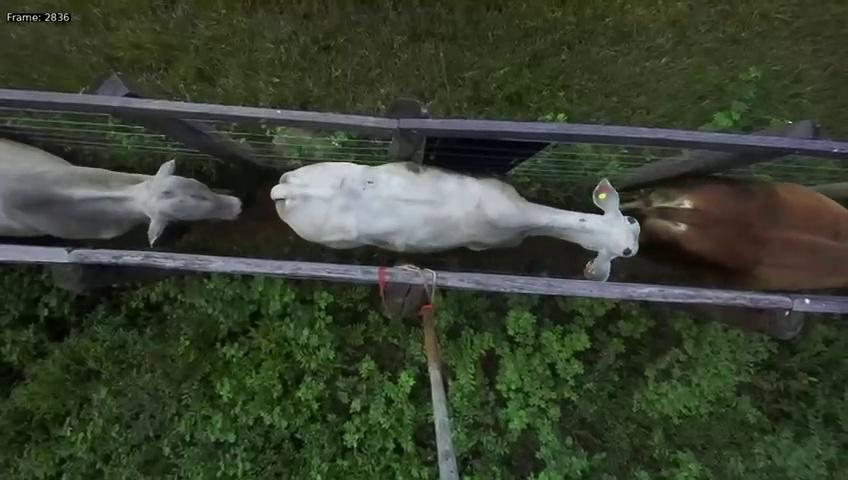cattle: (268, 125, 640, 281), (0, 129, 248, 256)
